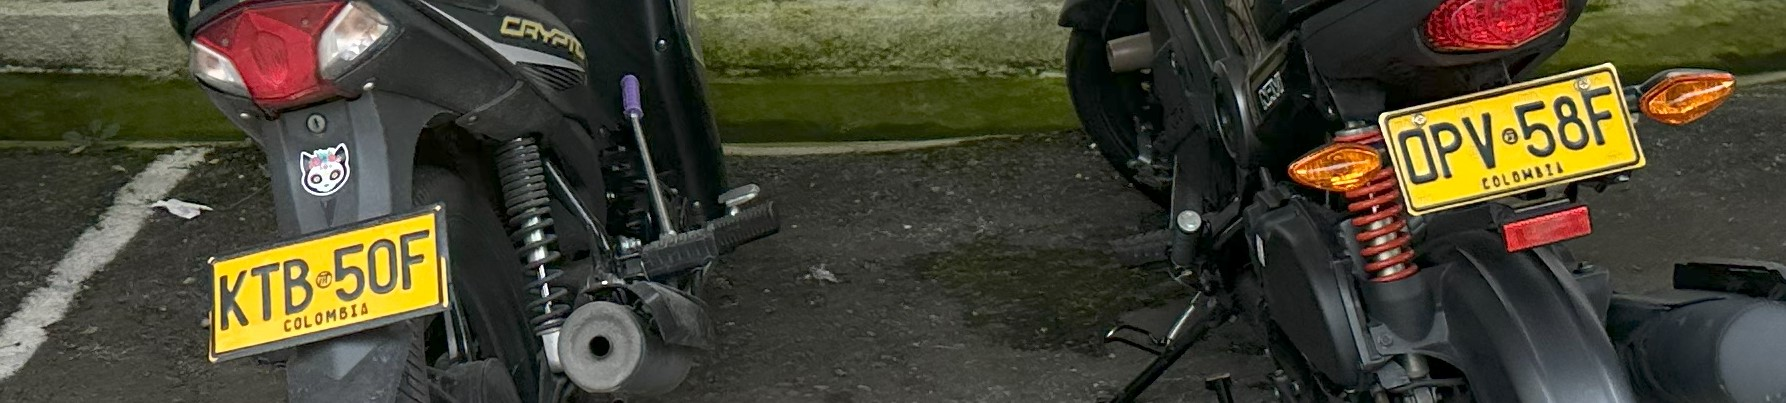number plate: (1380, 64, 1644, 213), (210, 205, 448, 360)
